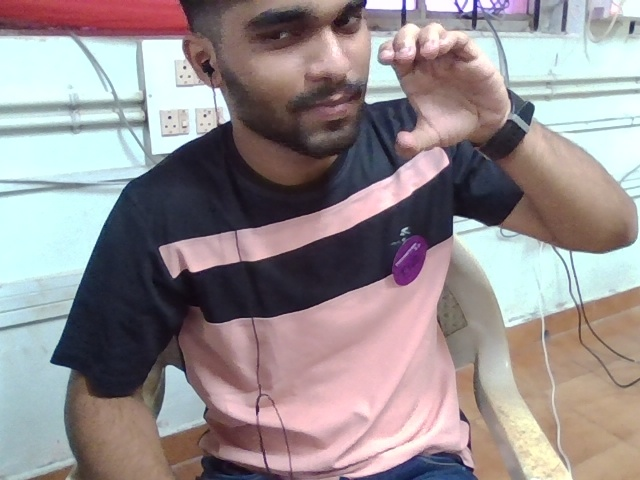Drink: (291, 18, 506, 178)
